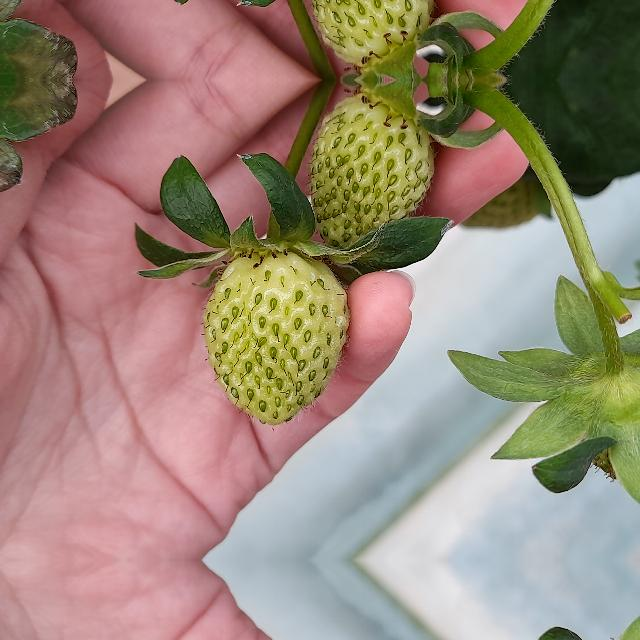Health_25: (203, 252, 351, 424), (315, 88, 435, 244), (315, 0, 435, 72)
